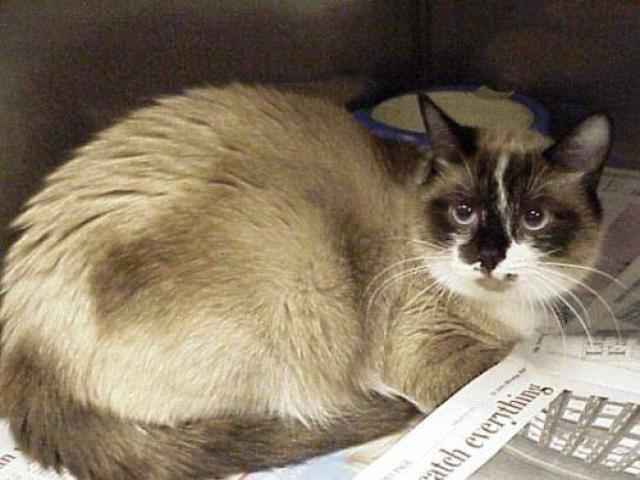cat: (14, 87, 636, 473)
